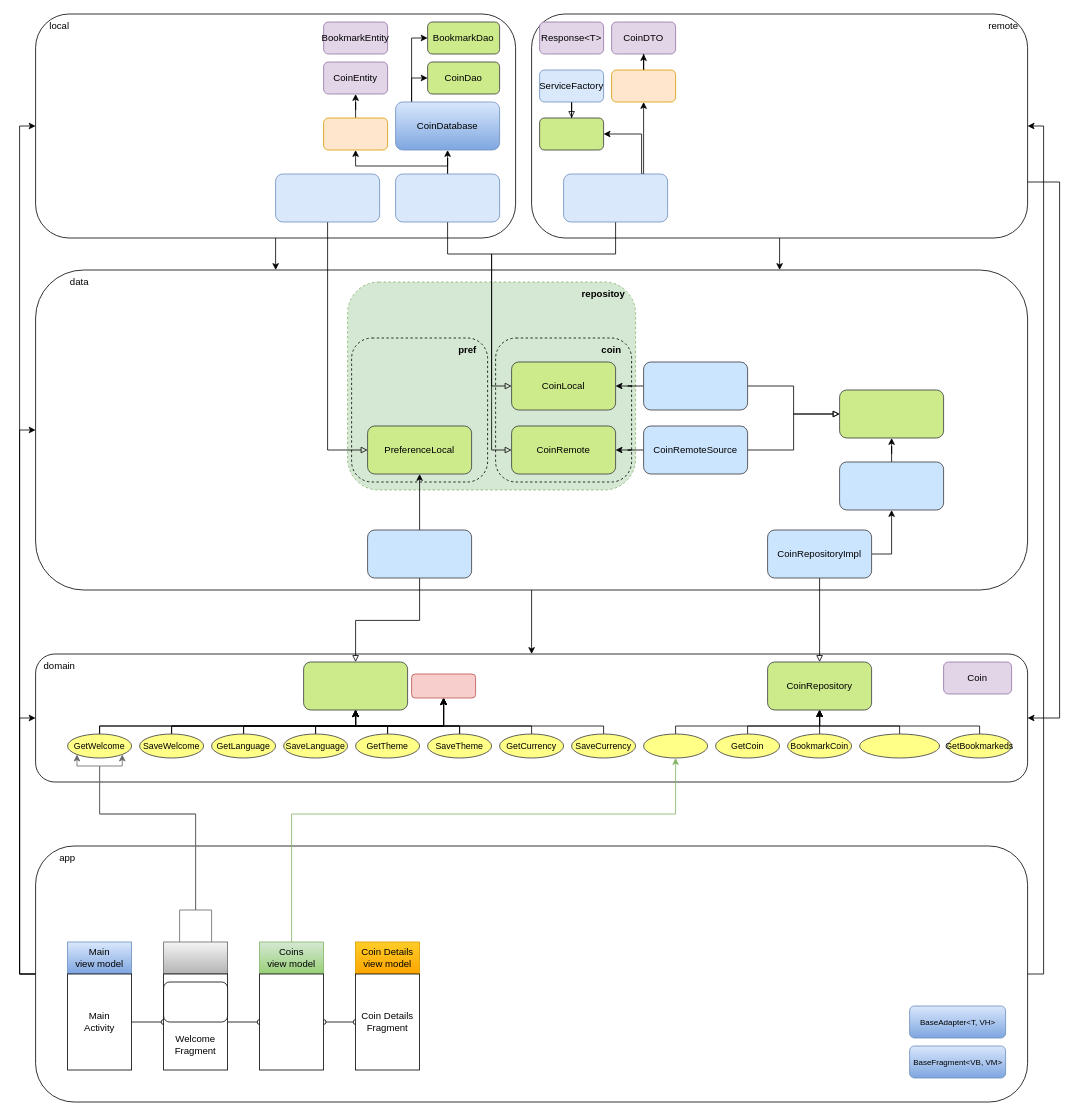
The diagram is 1080 pixels wide and 1116 high, and some of its shapes have lost their labels. Here are the shapes that lost their labels. From the top down, the box of each, then its label:
(611, 69, 676, 102): CoinMapper
(323, 117, 388, 150): CoinEntity Mapper
(539, 117, 604, 150): CoinService
(275, 173, 380, 222): PreferencesLocal Impl
(395, 173, 500, 222): CoinLocalImpl
(563, 173, 668, 222): CoinRemoteImpl
(643, 361, 748, 410): CoinLocalSource
(839, 389, 944, 438): CoinSource
(839, 461, 944, 510): CoinSourceFactory
(367, 529, 472, 578): PreferencesRepository Impl
(303, 661, 408, 710): Preference Repository
(411, 673, 476, 698): PrefKeys<T>
(643, 733, 708, 758): GetCoins
(859, 733, 940, 758): UnBookmarkCoin
(163, 941, 228, 974): Welcome view model
(163, 981, 228, 1022): Walkthrough Fragment
(259, 973, 324, 1070): Coins Fragment
